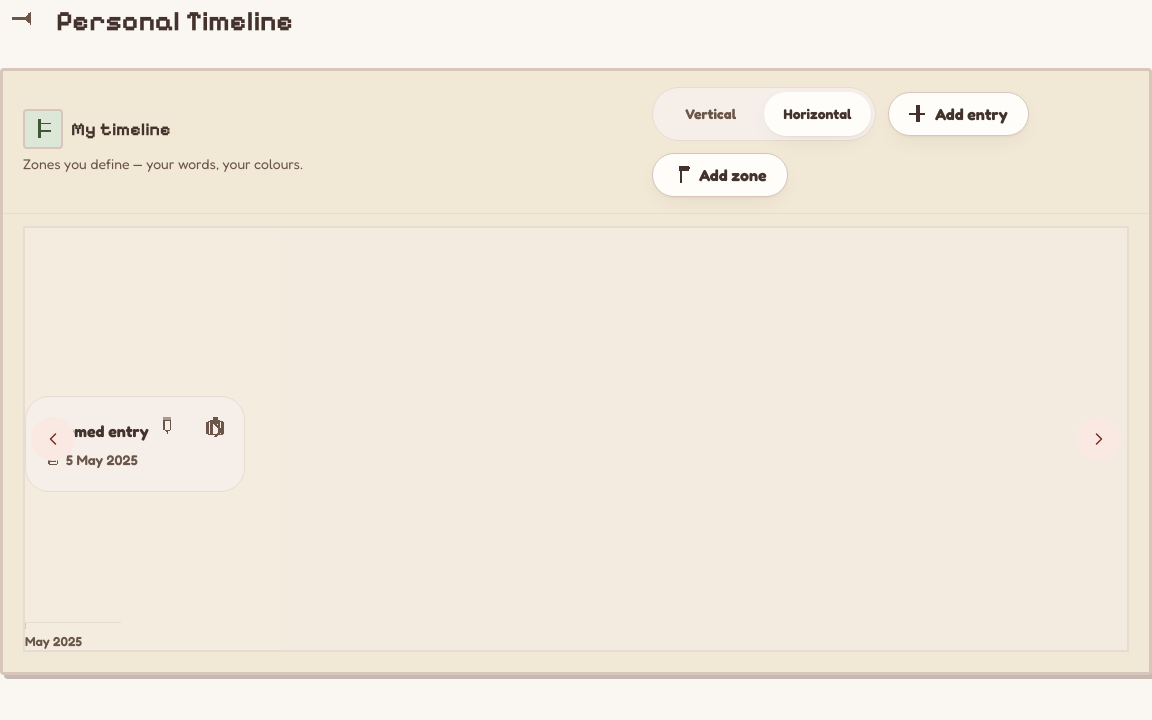
TimelineScreen › deletes an entry after confirmation
This screenshot has width=1152, height=720.
Click the button named "Delete \"Doomed entry\"". click: (215, 426)
box: [193, 404, 237, 448]
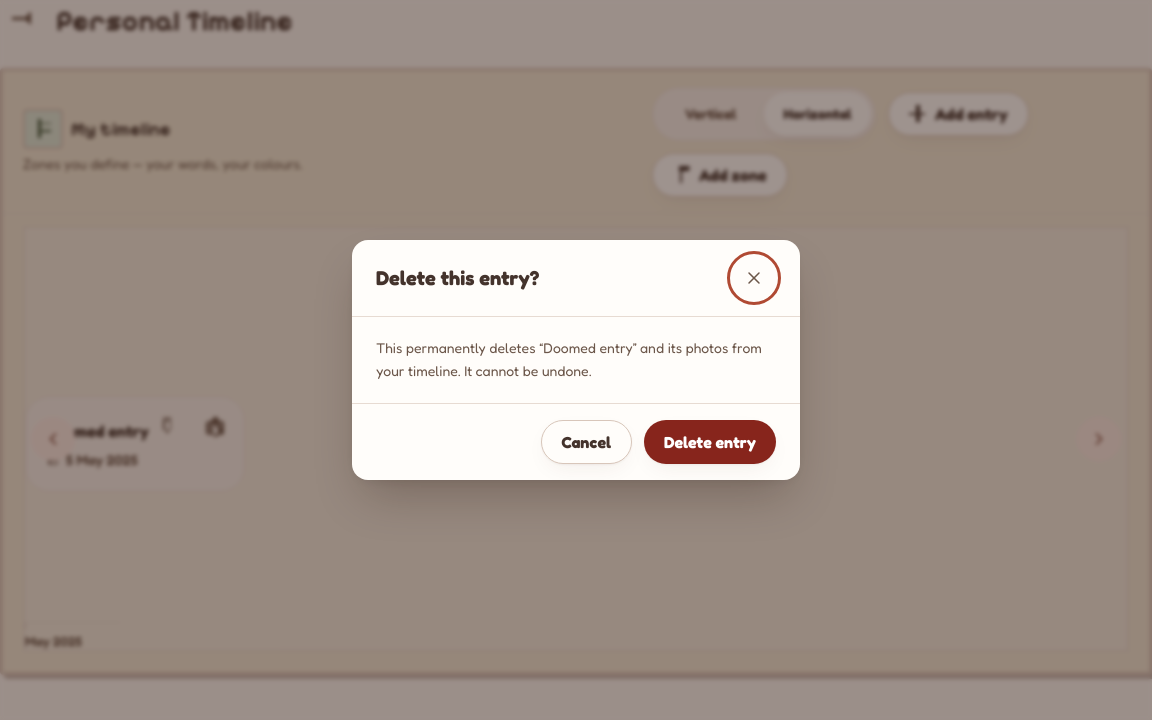
Click the button "Delete entry". click: (710, 442)
box: [644, 420, 776, 464]
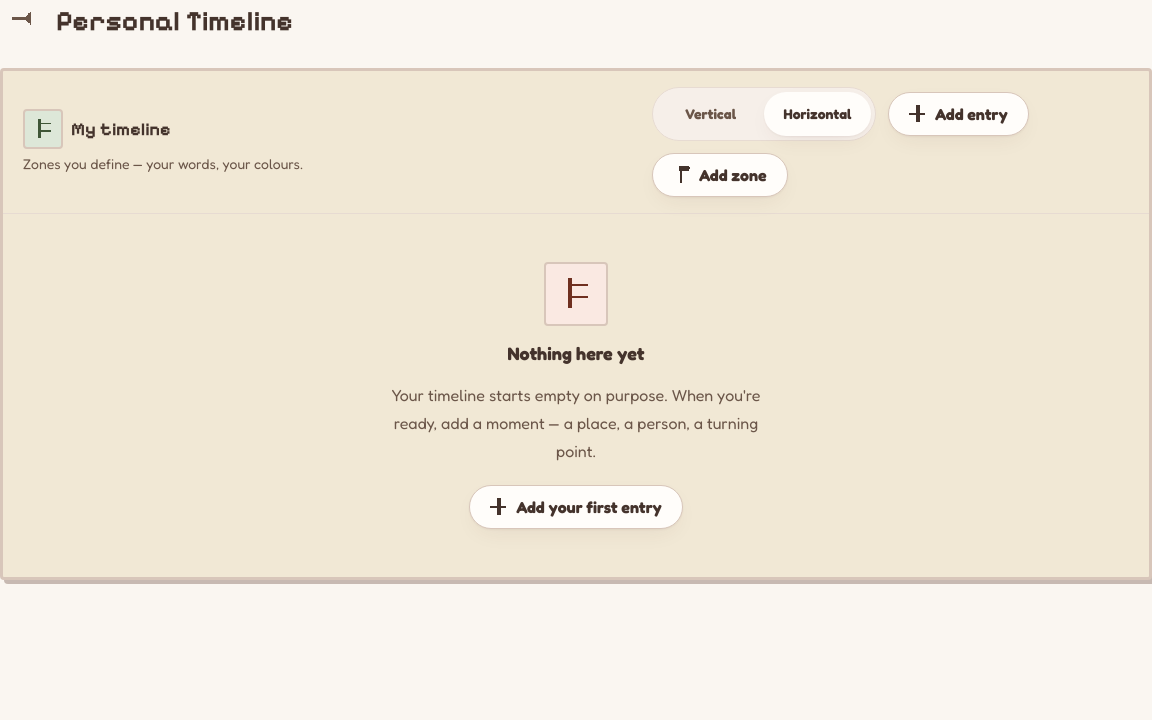
Expected: the button "Doomed entry" is gone
